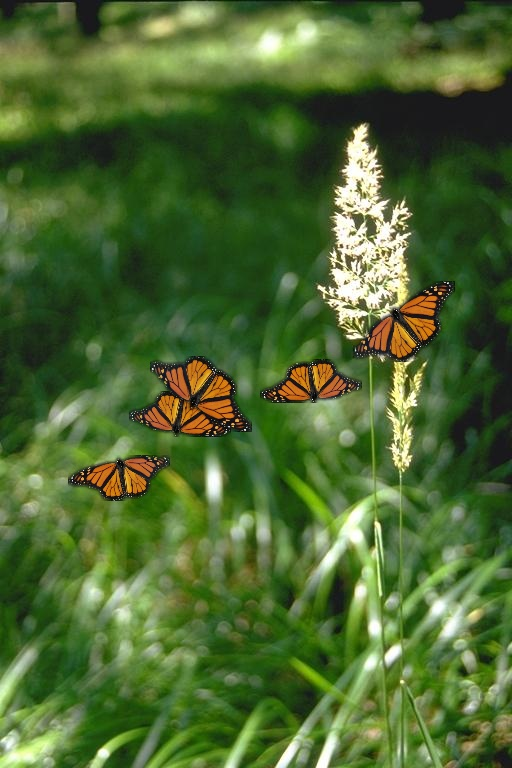danaus_plexippus: (353, 281, 455, 362), (150, 356, 252, 432), (129, 391, 231, 437), (68, 455, 170, 501), (260, 359, 362, 403)
